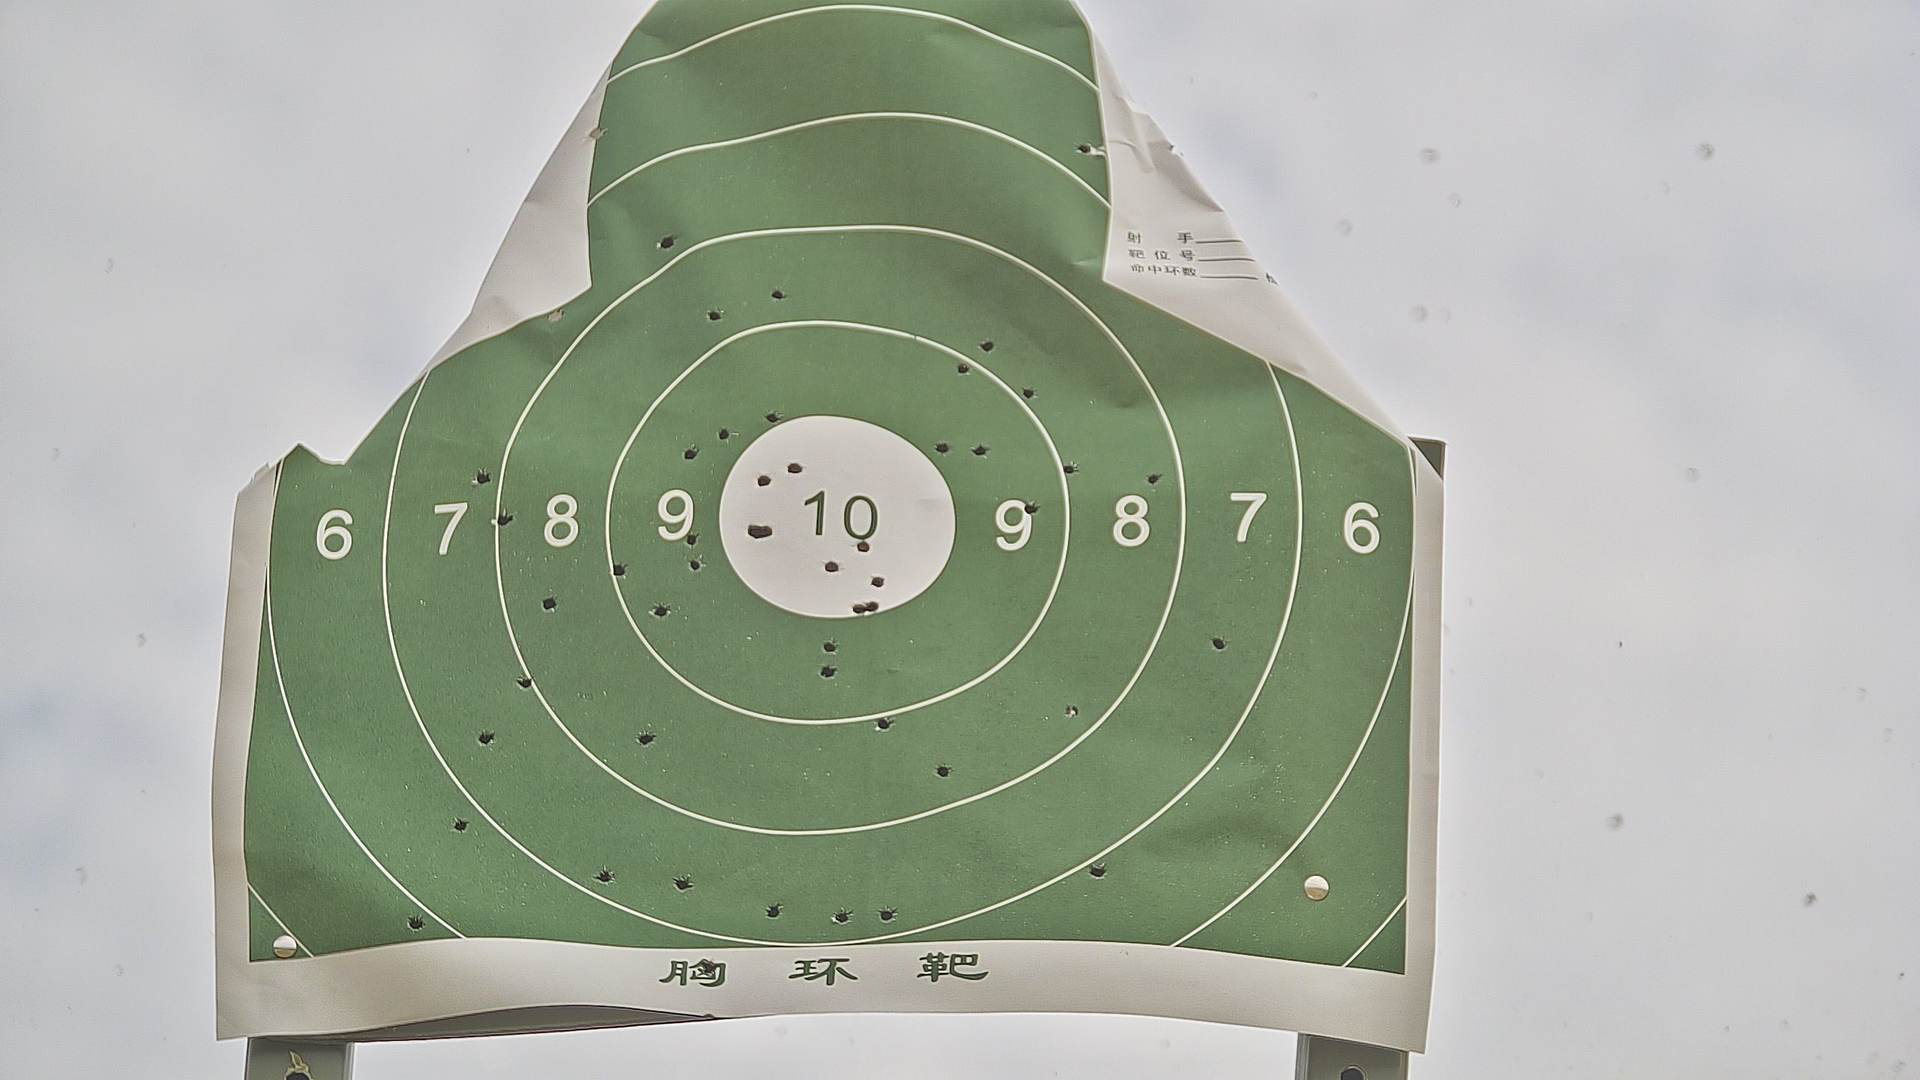hole: (407, 913, 425, 931), (876, 715, 891, 735), (655, 236, 676, 249), (518, 675, 534, 692), (477, 731, 495, 746), (820, 665, 837, 680), (1211, 636, 1228, 651), (636, 731, 655, 744), (495, 513, 512, 527), (651, 603, 669, 617), (546, 309, 564, 322), (596, 870, 615, 884), (674, 877, 692, 890), (766, 905, 785, 918), (1089, 865, 1108, 878), (454, 819, 468, 835), (611, 563, 626, 578), (824, 559, 840, 574), (698, 960, 713, 975), (475, 471, 492, 484), (746, 524, 760, 541), (972, 444, 989, 458), (1022, 385, 1036, 400), (690, 558, 704, 572), (760, 525, 774, 539), (771, 290, 787, 303), (543, 596, 556, 612), (864, 600, 880, 613), (869, 575, 886, 587), (708, 307, 723, 320), (766, 411, 781, 425), (936, 764, 951, 777), (1076, 142, 1092, 154), (589, 127, 605, 138), (833, 913, 849, 924), (880, 909, 895, 920), (822, 640, 837, 651), (789, 462, 802, 475), (716, 427, 731, 439), (686, 531, 698, 546), (756, 475, 770, 487), (1026, 502, 1040, 514), (1146, 472, 1160, 484), (981, 342, 994, 353), (957, 363, 971, 375), (936, 442, 949, 454), (857, 541, 870, 553), (1065, 705, 1079, 717), (1062, 463, 1076, 473), (684, 448, 695, 462), (853, 604, 865, 615)
kernel: (829, 516, 836, 520)
target: (243, 11, 1414, 978)
ten: (717, 411, 955, 620)
